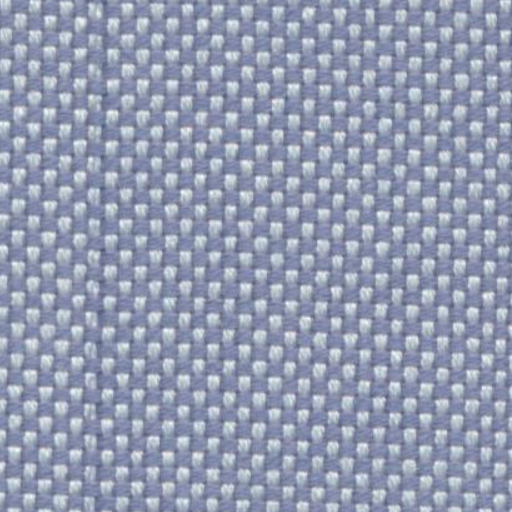TuoSha: (68, 10, 136, 500)
